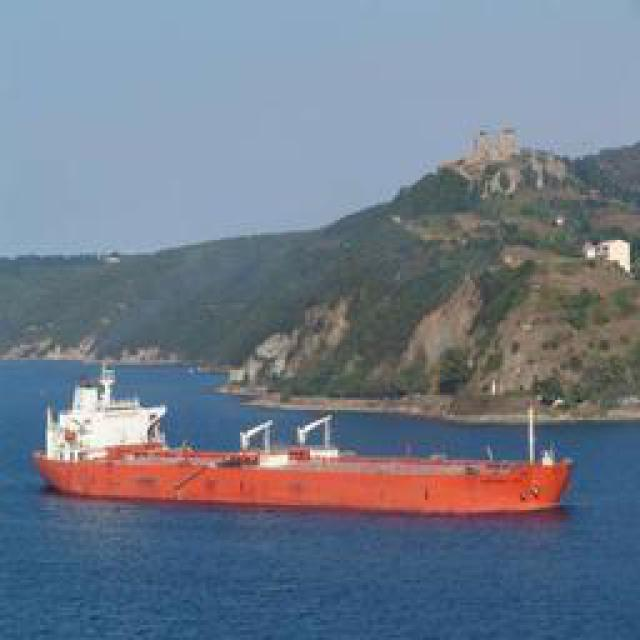Ship: (38, 386, 573, 519)
